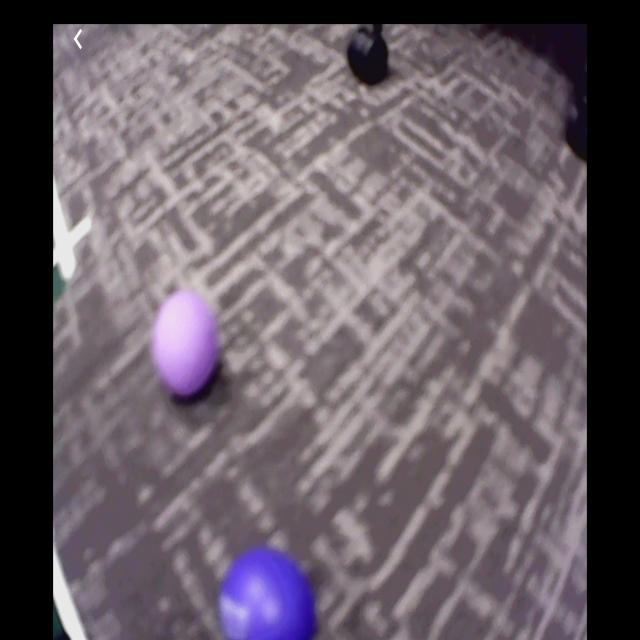ball: (220, 551, 320, 640), (155, 289, 220, 405)
